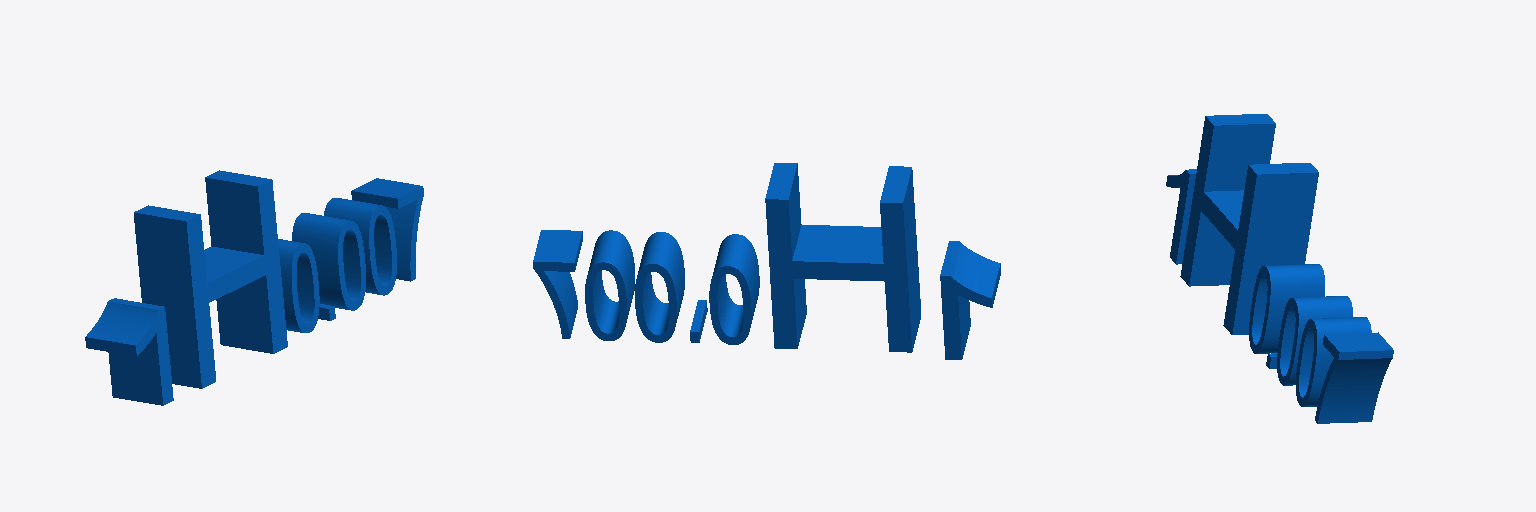
3 renders of one model, left to right at view 1: azimuth 30°, elevation 25°; view 2: azimuth 150°, elevation 25°; view 3: azimuth 270°, elevation 25°, orthographic.
Visible parts, largest first — view 1: Texto, Texto.002_Texto.003, Texto.001_Texto.002; view 2: Texto, Texto.002_Texto.003, Texto.001_Texto.002; view 3: Texto, Texto.002_Texto.003, Texto.001_Texto.002.
Part boxes in pixels (x1,y1,x2,y2): Texto: (134, 170, 287, 388); Texto.002_Texto.003: (278, 178, 423, 332); Texto.001_Texto.002: (85, 298, 173, 405); Texto: (765, 163, 920, 352); Texto.002_Texto.003: (533, 230, 759, 344); Texto.001_Texto.002: (940, 241, 1000, 359); Texto: (1180, 114, 1318, 334); Texto.002_Texto.003: (1249, 264, 1393, 423); Texto.001_Texto.002: (1166, 169, 1196, 264).
Size of the model in its own units: 1.35 by 0.5739 by 0.6741.